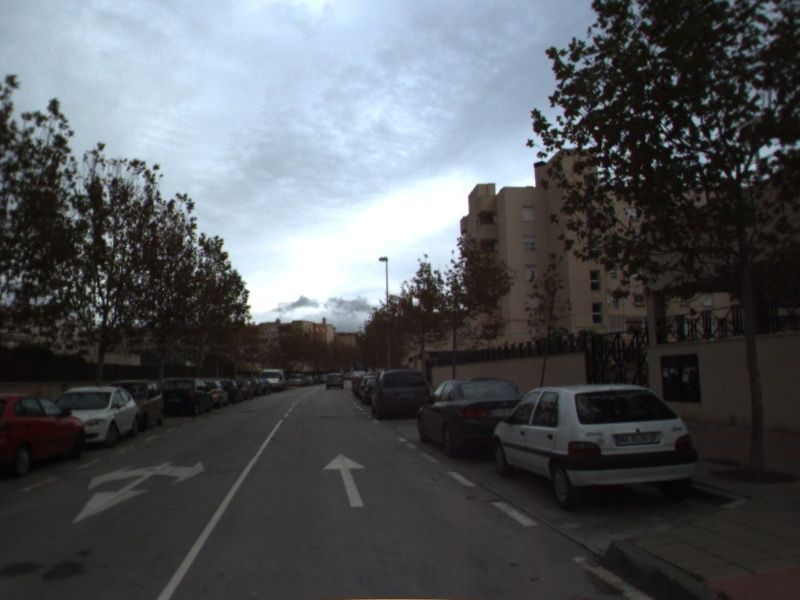STRAIGHT: (321, 451, 368, 508)
